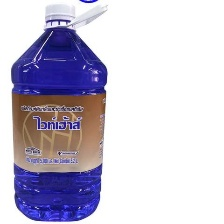cleaning_solution: (8, 1, 110, 222)
